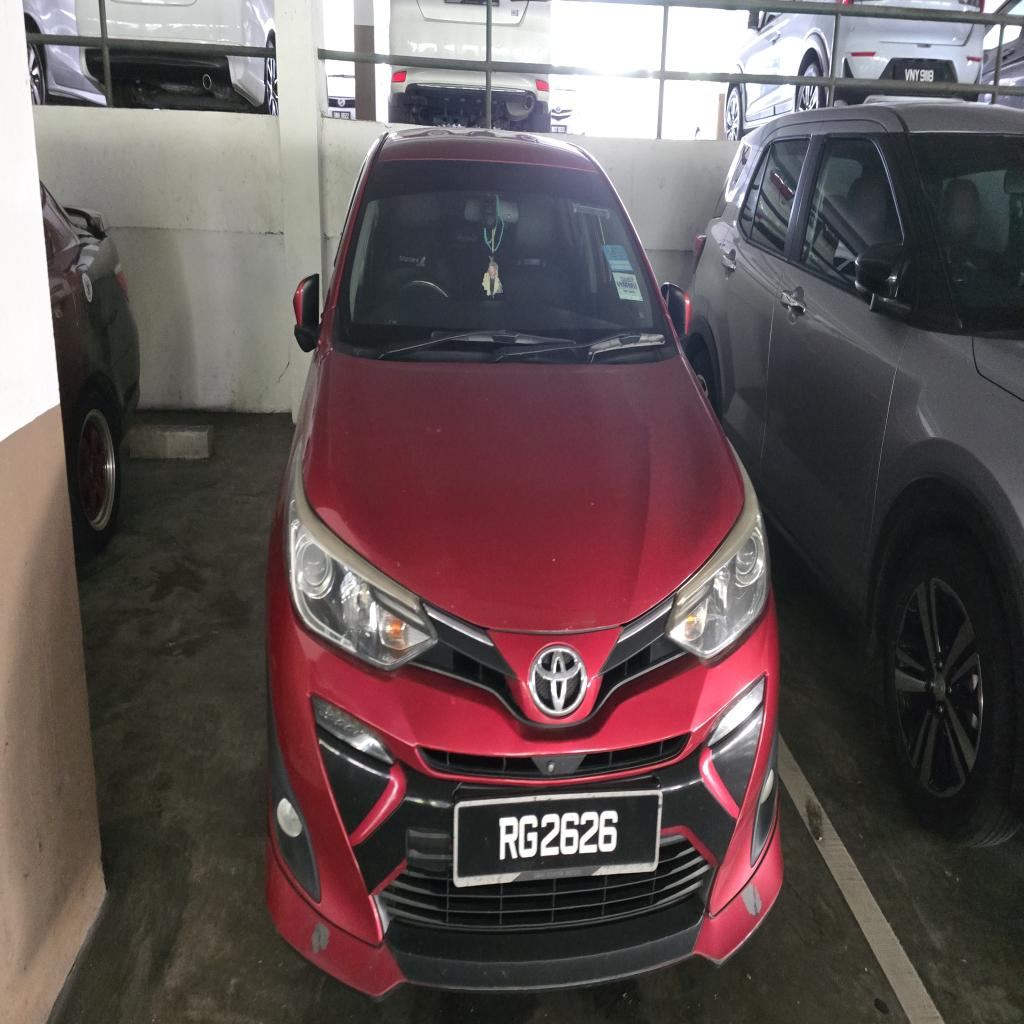car: (267, 129, 781, 994)
car plate: (453, 790, 662, 887)
